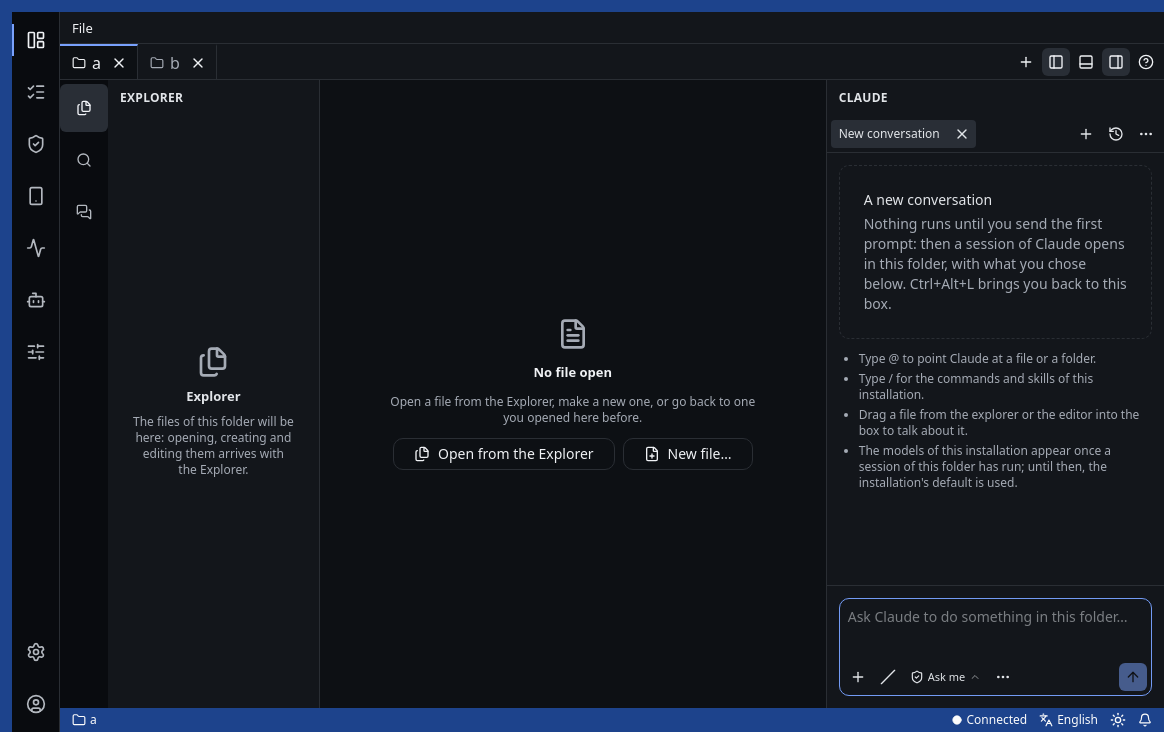
the chat with Claude, in the folder tab — plan 06, S-115 › starts the session in the folder of the tab, and keeps it beside the editor
Step 1. Type "first" into the text box named "Prompt" → [995, 631], box [840, 599, 1151, 663]
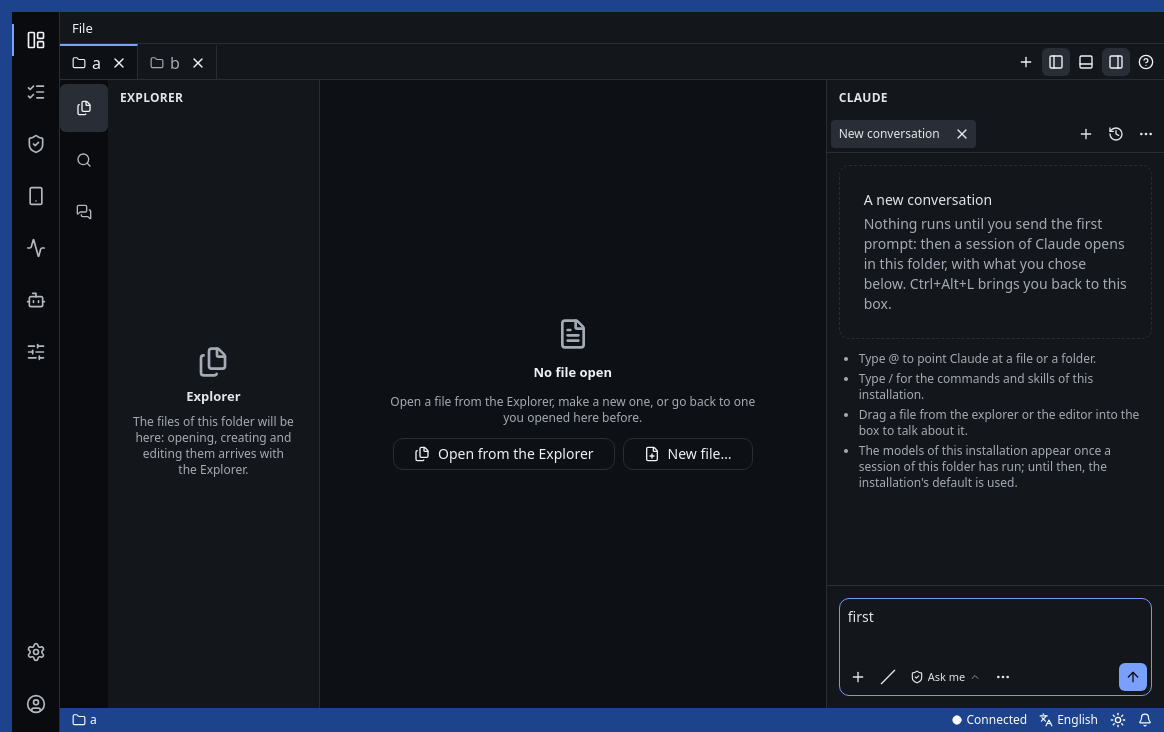
Step 2. Click the button named "Send" → [1133, 677], box [1119, 663, 1147, 691]
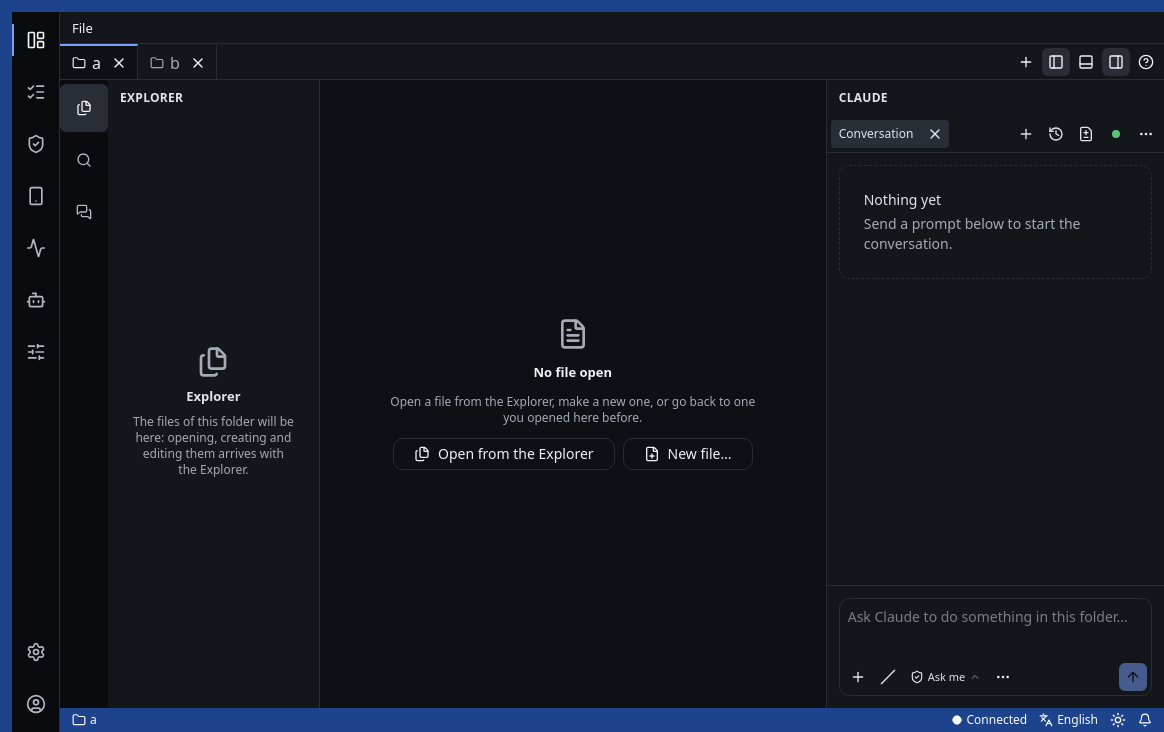
Expected: the element named "Editor" is shown, [320, 80, 826, 708]
Expected: the text box named "Prompt" is shown, [840, 599, 1151, 663]
